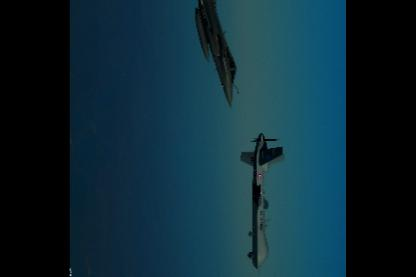MQ9: (242, 133, 286, 276)
RQ4: (194, 0, 240, 109)
